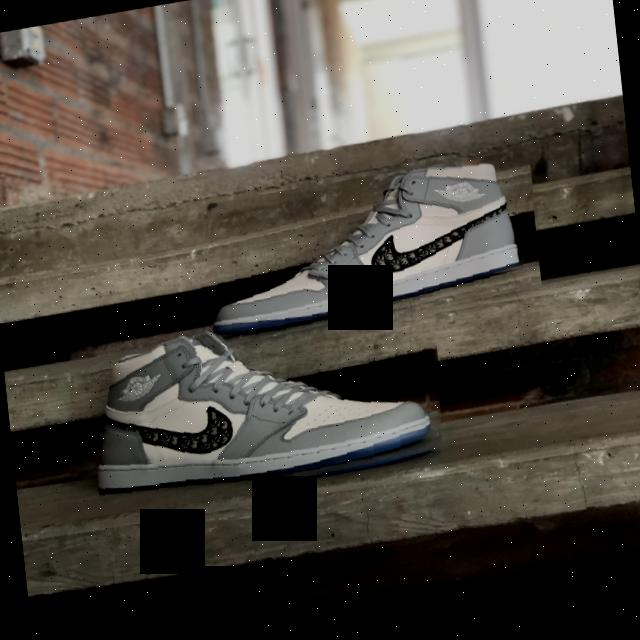shoe: (84, 293, 452, 521), (184, 155, 544, 367)
